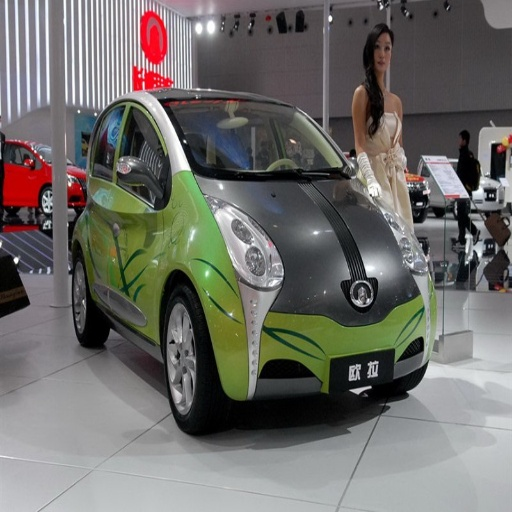front_bumper: (203, 275, 429, 399)
front_right_door: (115, 99, 166, 330)
front_right_light: (228, 210, 281, 287)
trunk: (283, 209, 346, 305)
